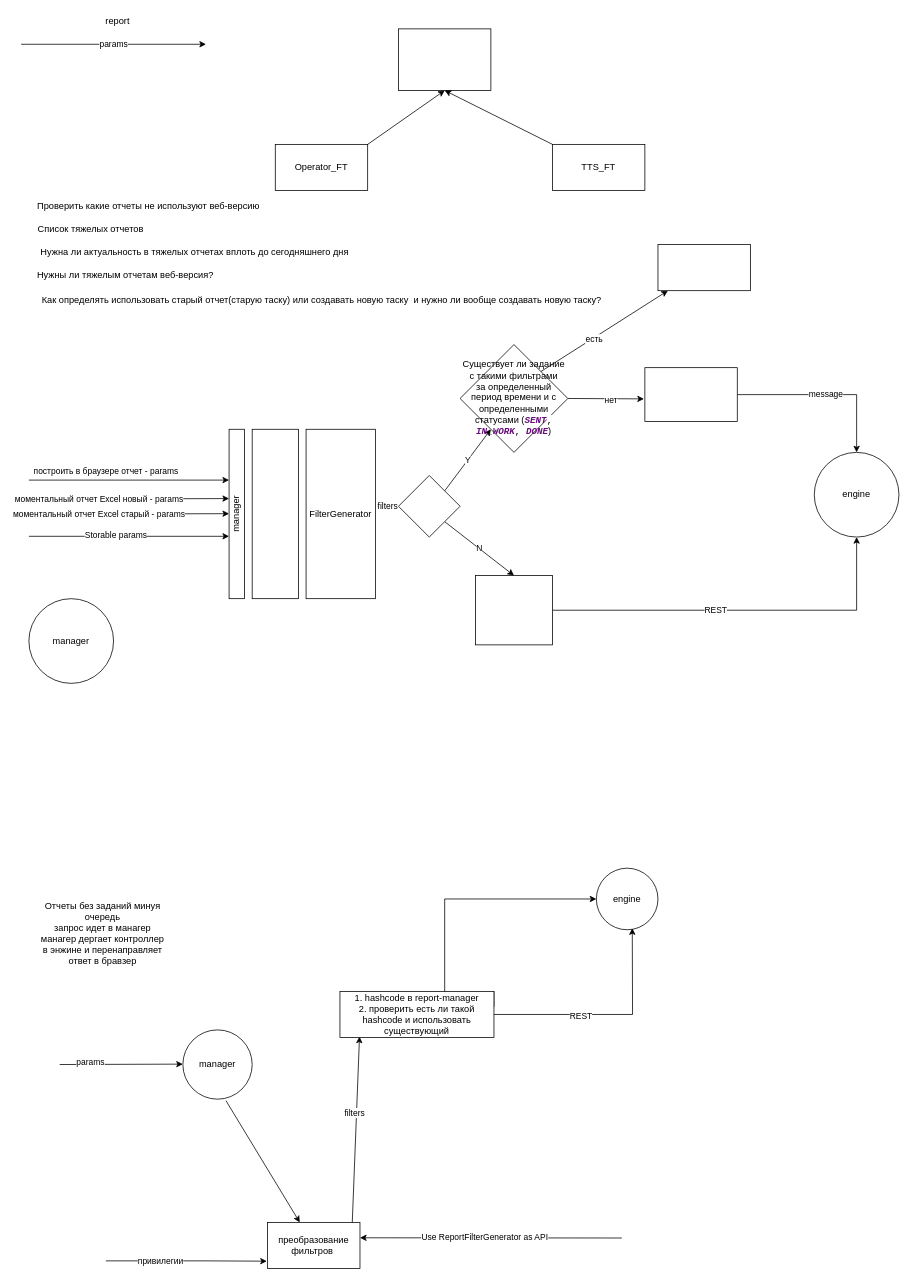
Some shapes in this 913 by 1282 pixel diagram are drawn without their labels. Each missing label, with the centre of its shape:
FilterTransformer transform(): point (444, 59)
Other: point (513, 610)
Storable?: point (429, 506)
биндим пользователя к таске: point (703, 267)
проверка привилегий: point (274, 514)
Создать новую таску Послать в кафку сообщение с таской: point (690, 394)
